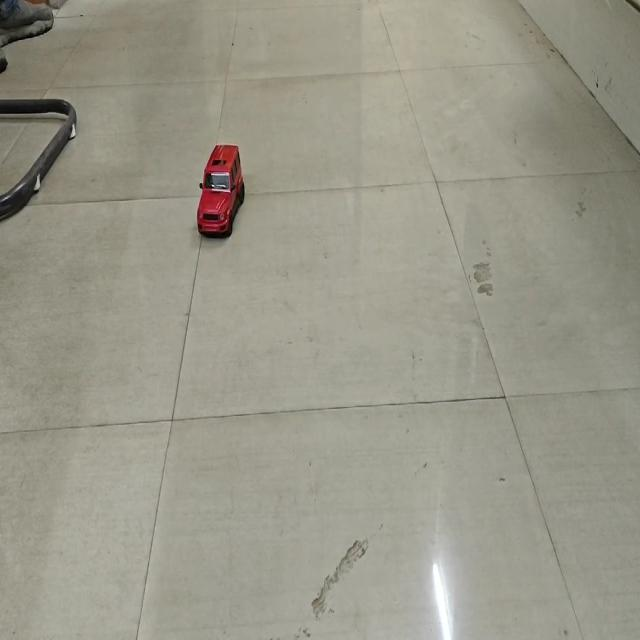light_vehicle: (196, 138, 247, 232)
